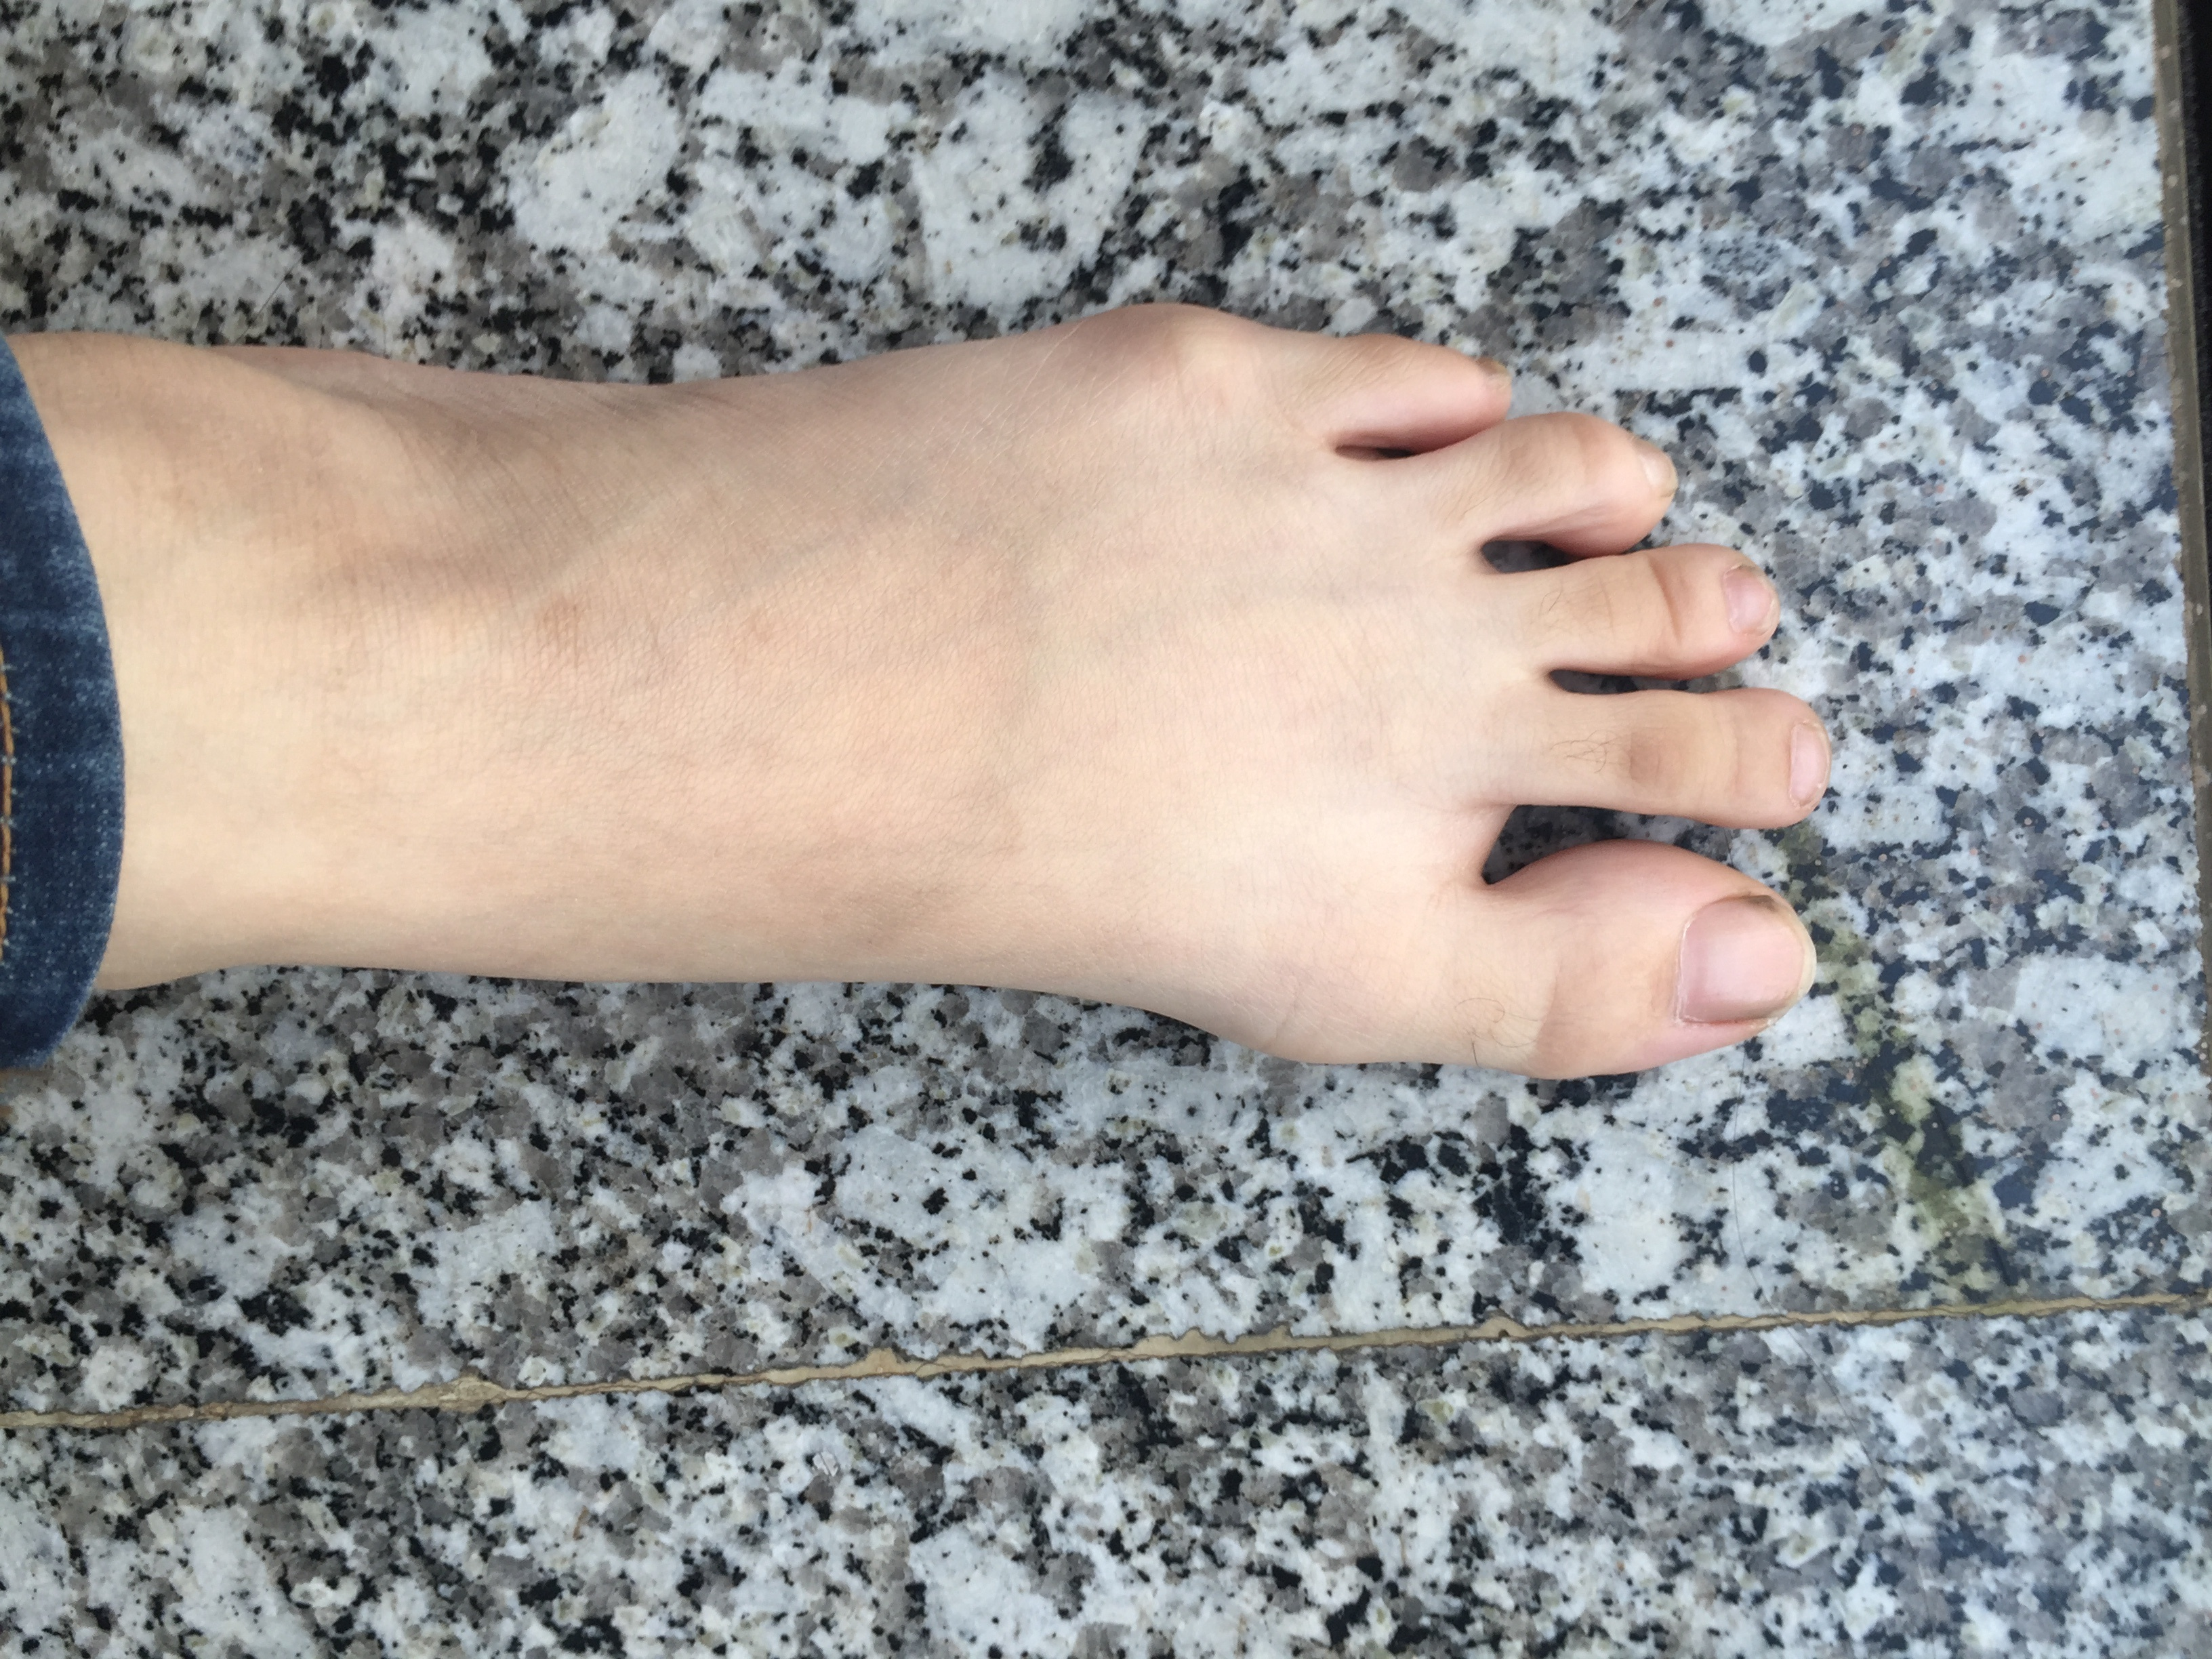feet: (19, 150, 1860, 1091)
